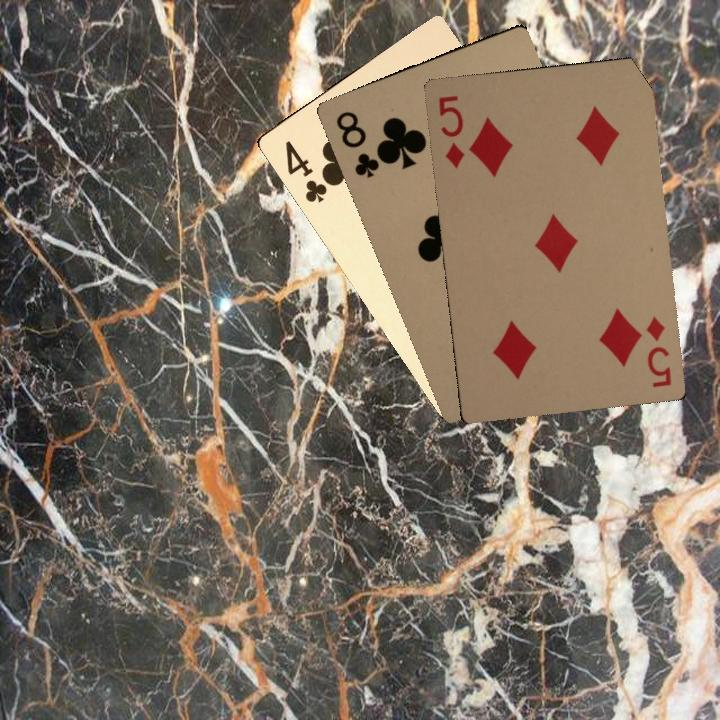4c: (281, 136, 335, 206)
5d: (434, 91, 468, 170), (642, 312, 674, 390)
8c: (332, 107, 383, 181)
